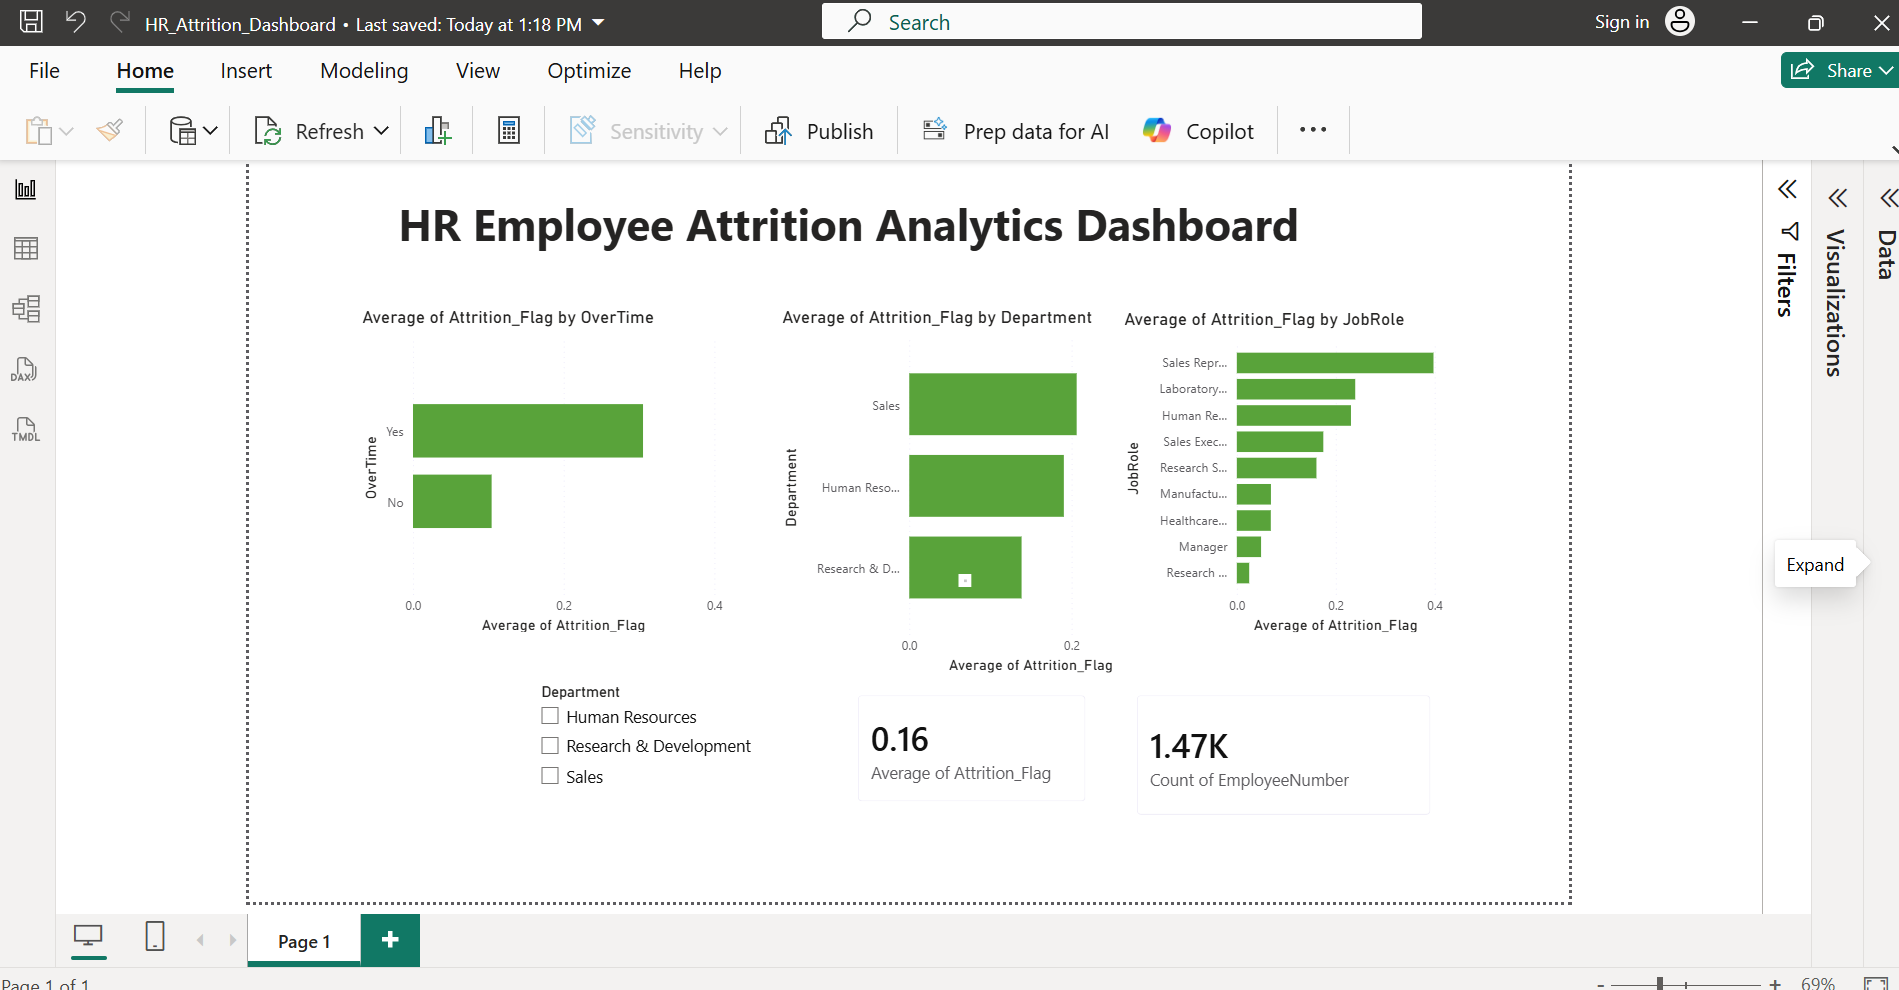

The dashboard page shown, as its layout file describes it:
{"tool":"powerbi","page":{"name":"Page 1","canvas":[1280,720],"ordinal":0},"visuals":[{"type":"cardVisual","fields":{"Data":["Avg(HR_Attrition_PowerBI.Attrition_Flag)"]},"box":[573.2,502,255.8,137.6],"z":0},{"type":"clusteredBarChart","fields":{"Category":["HR_Attrition_PowerBI.Department"],"Y":["Avg(HR_Attrition_PowerBI.Attrition_Flag)"]},"box":[511.7,142.5,377.3,359.5],"z":1},{"type":"clusteredBarChart","fields":{"Category":["HR_Attrition_PowerBI.OverTime"],"Y":["Avg(HR_Attrition_PowerBI.Attrition_Flag)"]},"box":[105.2,142.5,359.5,320.6],"z":2},{"type":"clusteredBarChart","fields":{"Category":["HR_Attrition_PowerBI.JobRole"],"Y":["Avg(HR_Attrition_PowerBI.Attrition_Flag)"]},"box":[843.6,144.1,319,319],"z":3},{"type":"slicer","fields":{"Values":["HR_Attrition_PowerBI.Department"]},"box":[270.4,502,241.3,195.9],"z":4},{"type":"textbox","box":[688.2,401.6,13,13],"z":5},{"type":"textbox","box":[139.3,27.5,1075.2,66.4],"z":6},{"type":"cardVisual","fields":{"Data":["CountNonNull(HR_Attrition_PowerBI.EmployeeNumber)"]},"box":[844,502,319,150],"z":7}]}

Visuals, with their boxes on the page's 1280x720 design canvas (x1, y1, x2, y2). These are canvas units, not pixel positions in the 1899x990 screenshot, which may show the page scaled, cropped or inside an application window:
cardVisual - Avg(HR_Attrition_PowerBI.Attrition_Flag): bbox(573, 502, 829, 640)
clusteredBarChart - HR_Attrition_PowerBI.Department x Avg(HR_Attrition_PowerBI.Attrition_Flag): bbox(512, 142, 889, 502)
clusteredBarChart - HR_Attrition_PowerBI.OverTime x Avg(HR_Attrition_PowerBI.Attrition_Flag): bbox(105, 142, 465, 463)
clusteredBarChart - HR_Attrition_PowerBI.JobRole x Avg(HR_Attrition_PowerBI.Attrition_Flag): bbox(844, 144, 1163, 463)
slicer - HR_Attrition_PowerBI.Department: bbox(270, 502, 512, 698)
textbox: bbox(688, 402, 701, 415)
textbox: bbox(139, 28, 1214, 94)
cardVisual - CountNonNull(HR_Attrition_PowerBI.EmployeeNumber): bbox(844, 502, 1163, 652)
